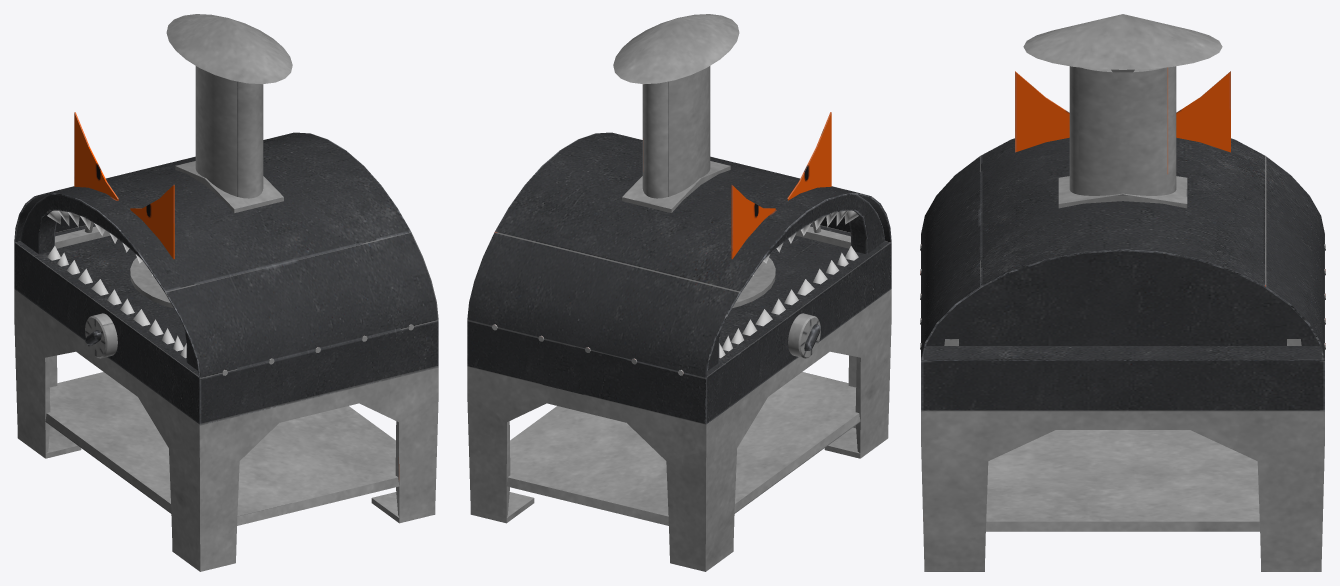
The model's file is Finished Oven.fbx.
The picture shows the model from 3 angles, left to right: view 1: azimuth 30°, elevation 25°; view 2: azimuth 150°, elevation 25°; view 3: azimuth 270°, elevation 25°; orthographic projection. The views are drawn at different scales.
Visible parts, largest first — view 1: Cylinder.002; view 2: Cylinder.002; view 3: Cylinder.002.
Part boxes in pixels (x1,y1,x2,y2): Cylinder.002: [14, 14, 438, 571]; Cylinder.002: [467, 14, 891, 571]; Cylinder.002: [920, 14, 1325, 571].
Bounding box in the file's own units: 488 × 832 × 615.
